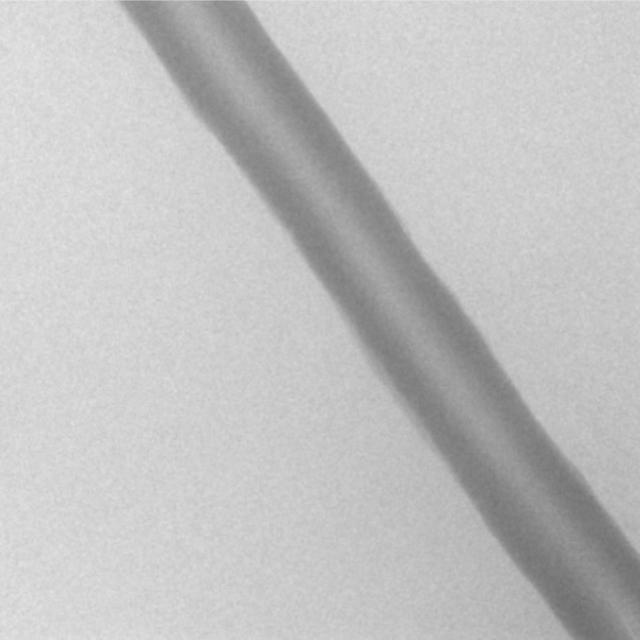crack: (615, 608, 636, 635)
